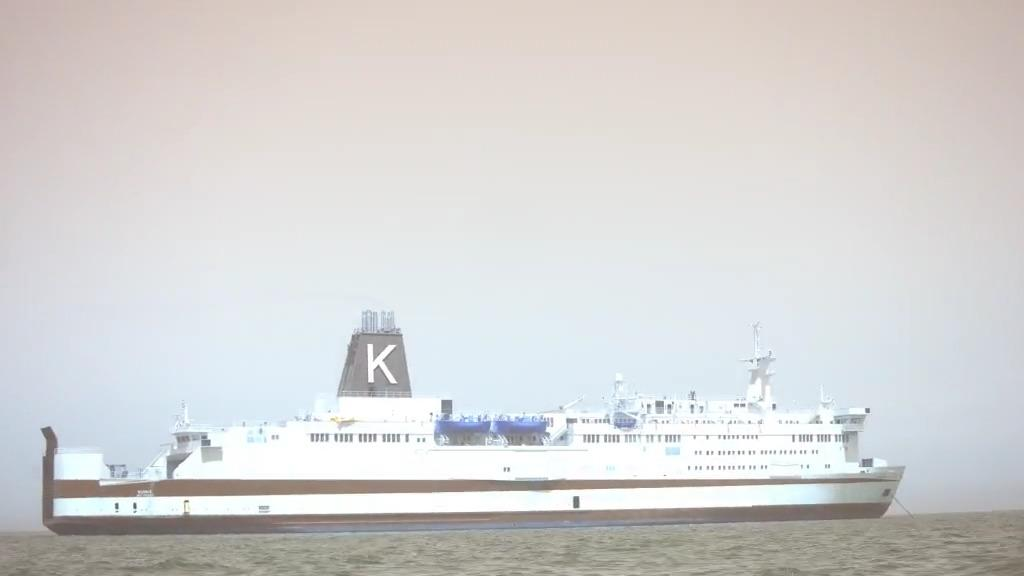PassengerShip: (36, 298, 914, 538)
